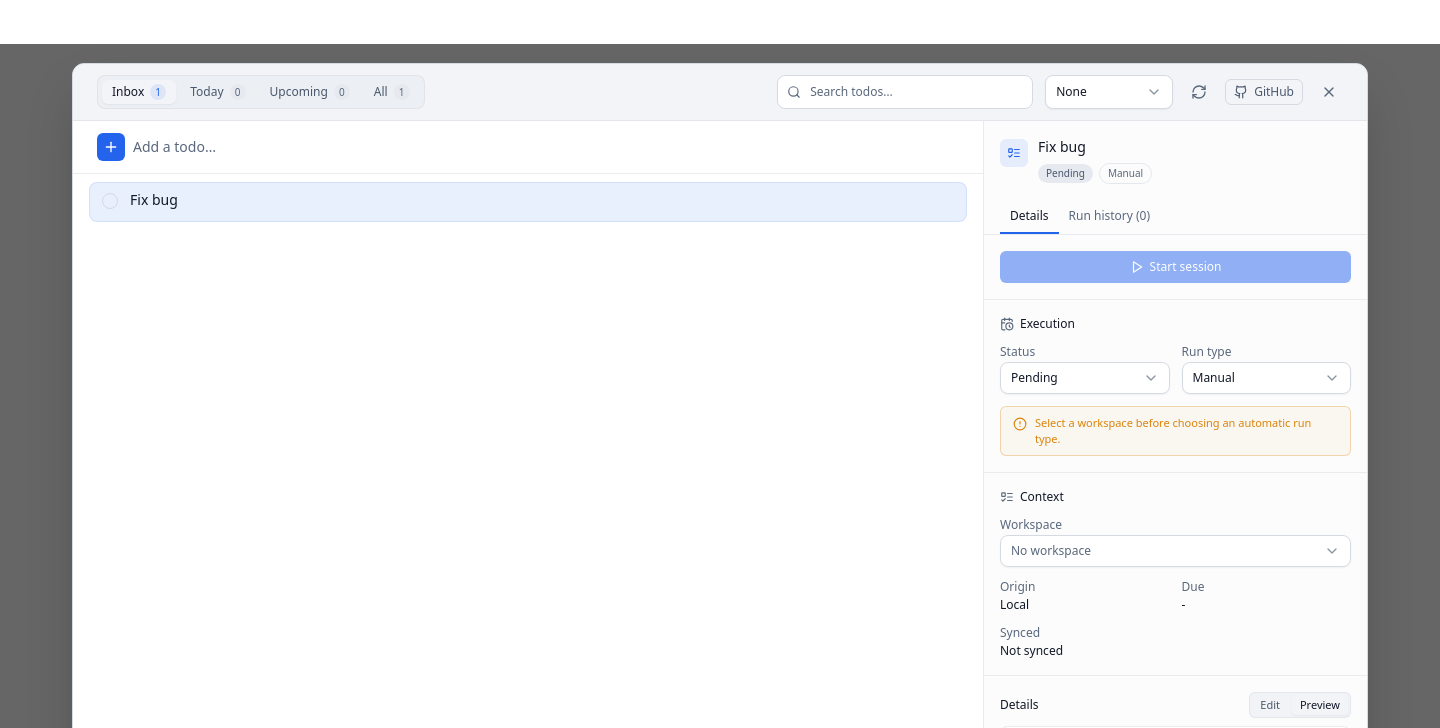
TodosPanel — search behavior and lifecycle (U2) › clears search when quick-add creates a todo that would be hidden (AE6)
Check: the text "Fix bug" is shown, box [130,190,178,208]
Type "xyz" into the field with placeholder "Search todos…" at (905, 92), box [777,74,1033,108]
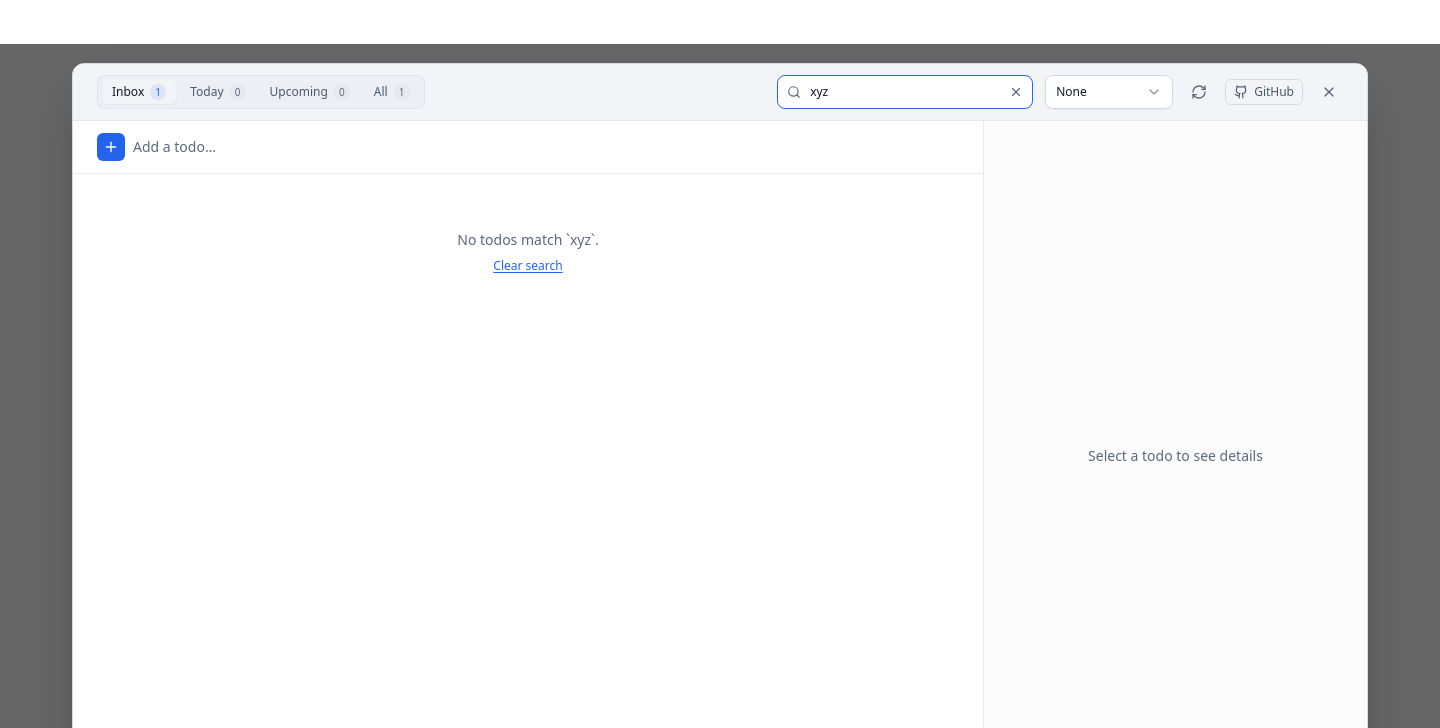
Check: the text "Fix bug" is gone
Type "New task" into the field with placeholder "Add a todo…" at (546, 146), box [133,136,959,156]
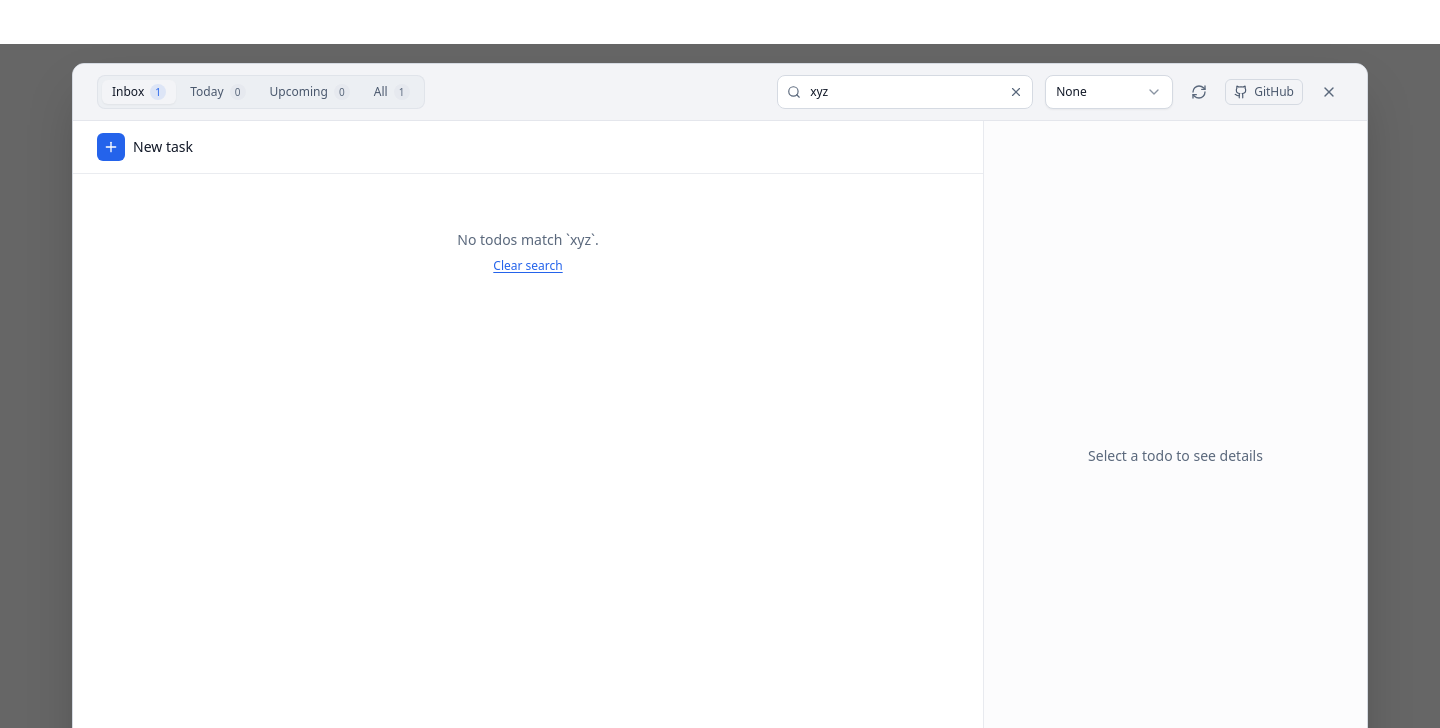
Click the button named "Add" at (111, 146), box [97,132,125,160]
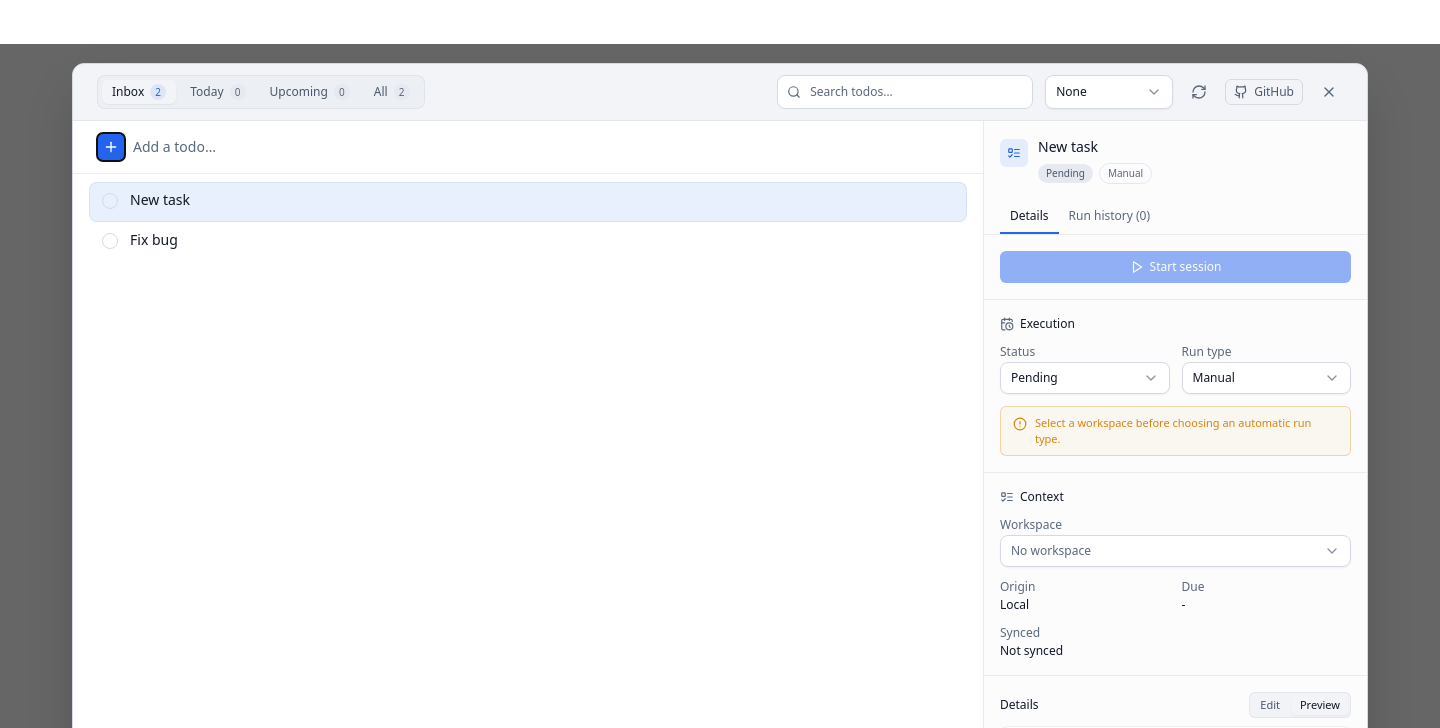
Check: the field with placeholder "Search todos…" is empty, box [777,74,1033,108]
Check: the text "New task" is shown, box [130,190,190,208]
